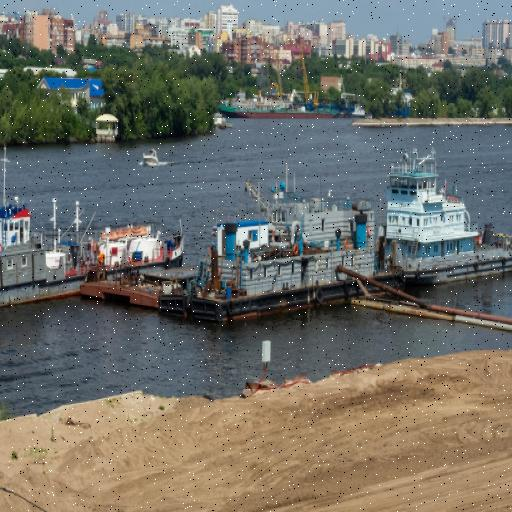tugboat: (362, 146, 512, 301)
